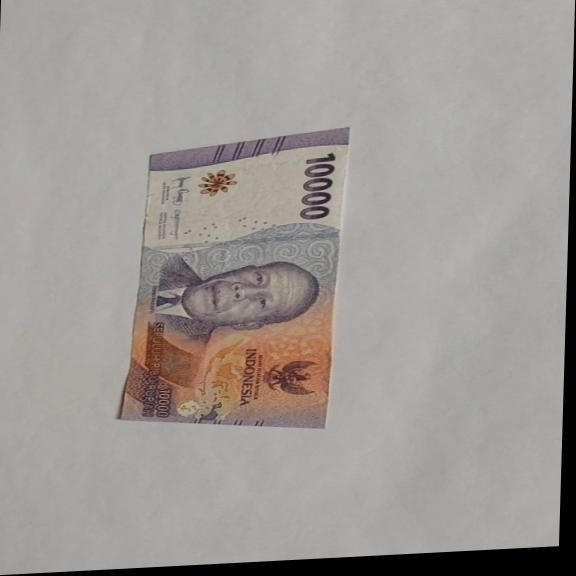Kertas: (117, 127, 352, 440), (297, 151, 338, 221)
